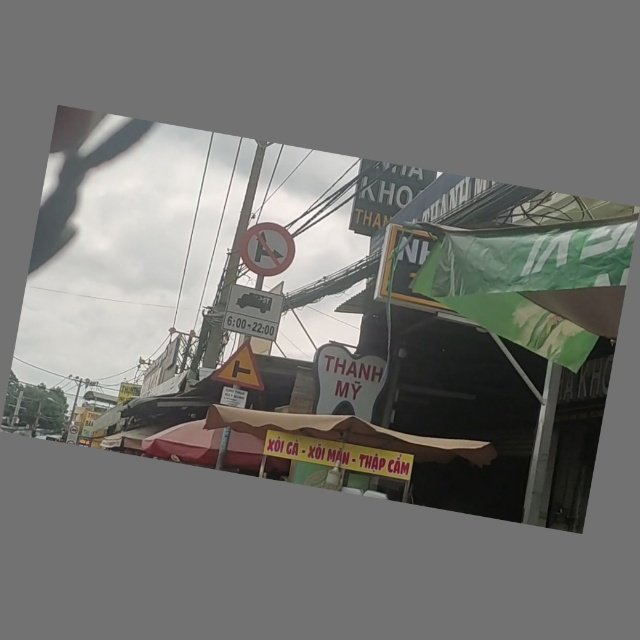P.139: (238, 219, 299, 281)
S.505a*Xe tai: (223, 282, 285, 339)
W.205b: (213, 336, 270, 392)
